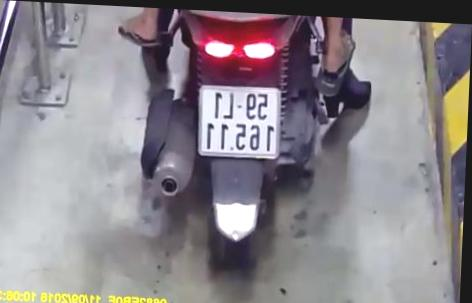License_Plate: (188, 80, 288, 165)
